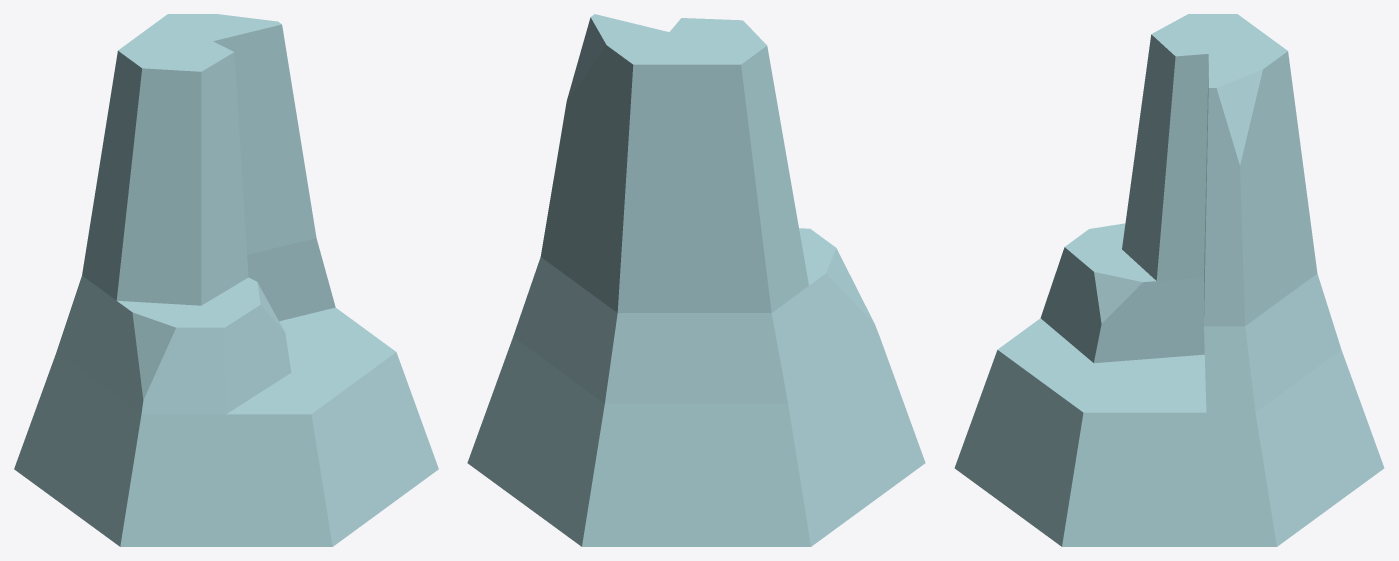
File: stone_tallH.dae
The picture shows the model from 3 angles, left to right: view 1: azimuth 30°, elevation 25°; view 2: azimuth 150°, elevation 25°; view 3: azimuth 270°, elevation 25°; orthographic projection. The views are drawn at different scales.
Parts seen in each view (by area): view 1: stone_tallH; view 2: stone_tallH; view 3: stone_tallH.
Boxes of the visible parts, x1,y1,x2,y2 form: stone_tallH: (14,14,438,546); stone_tallH: (467,14,925,546); stone_tallH: (954,14,1384,546).
Size of the model in its own units: 0.5749 by 0.7108 by 0.6639.
